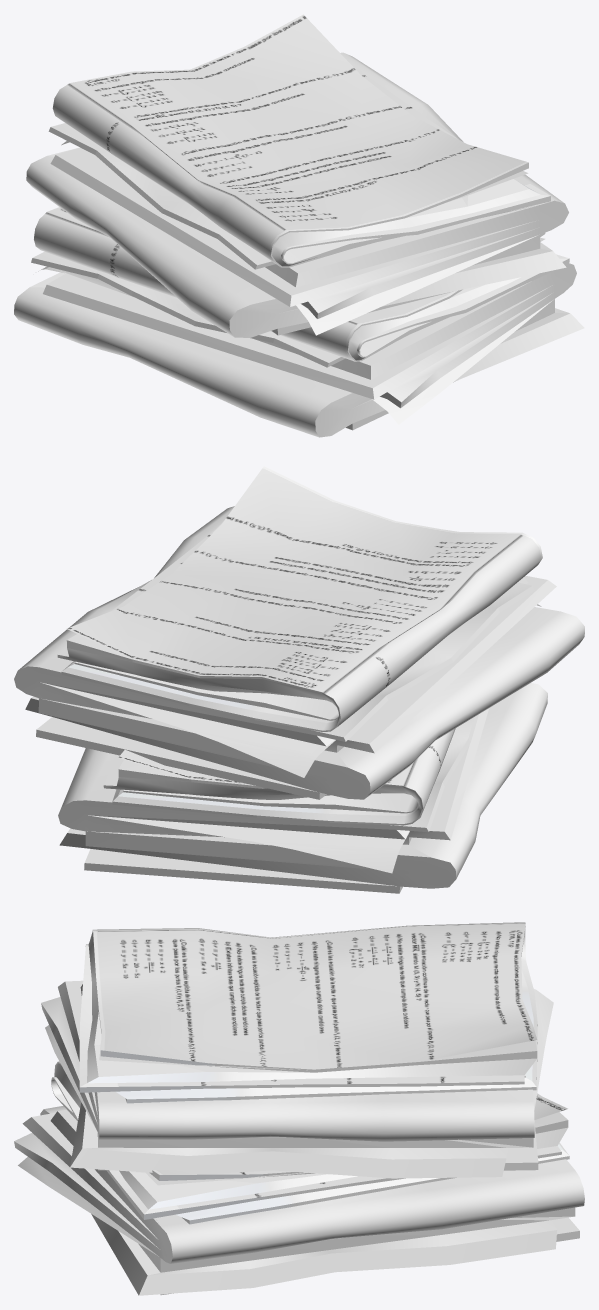
Rendered from Papers 2.FBX.
The picture shows the model from 3 angles, top to bottom: view 1: azimuth 30°, elevation 25°; view 2: azimuth 150°, elevation 25°; view 3: azimuth 270°, elevation 25°; orthographic projection. The views are drawn at different scales.
Visible parts, largest first — view 1: papers 2; view 2: papers 2; view 3: papers 2.
Part boxes in pixels (left/top/right/bottom): papers 2: left=14, top=14, right=584, bottom=437; papers 2: left=14, top=466, right=584, bottom=893; papers 2: left=14, top=922, right=584, bottom=1295.
Bounding box in the file's own units: 34.2 × 15.64 × 37.18.
1 material, 1 textured.
